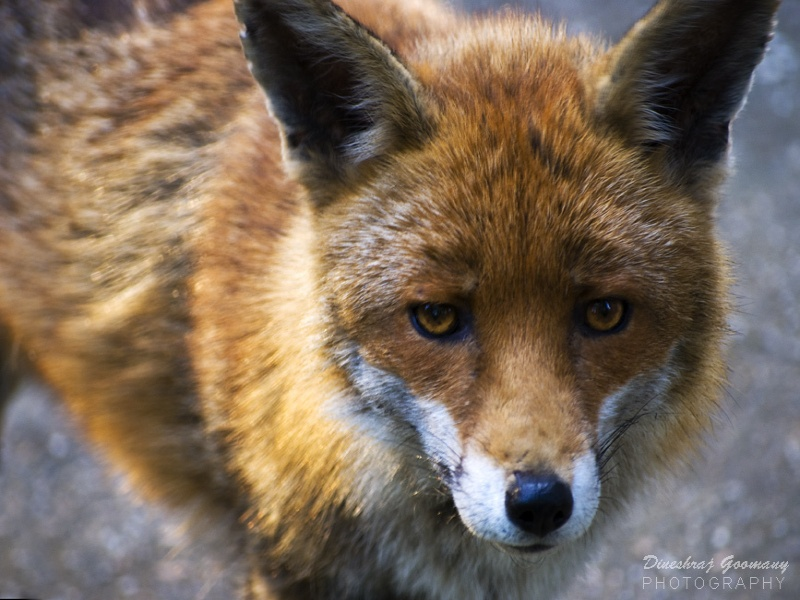fox: (1, 3, 761, 598)
